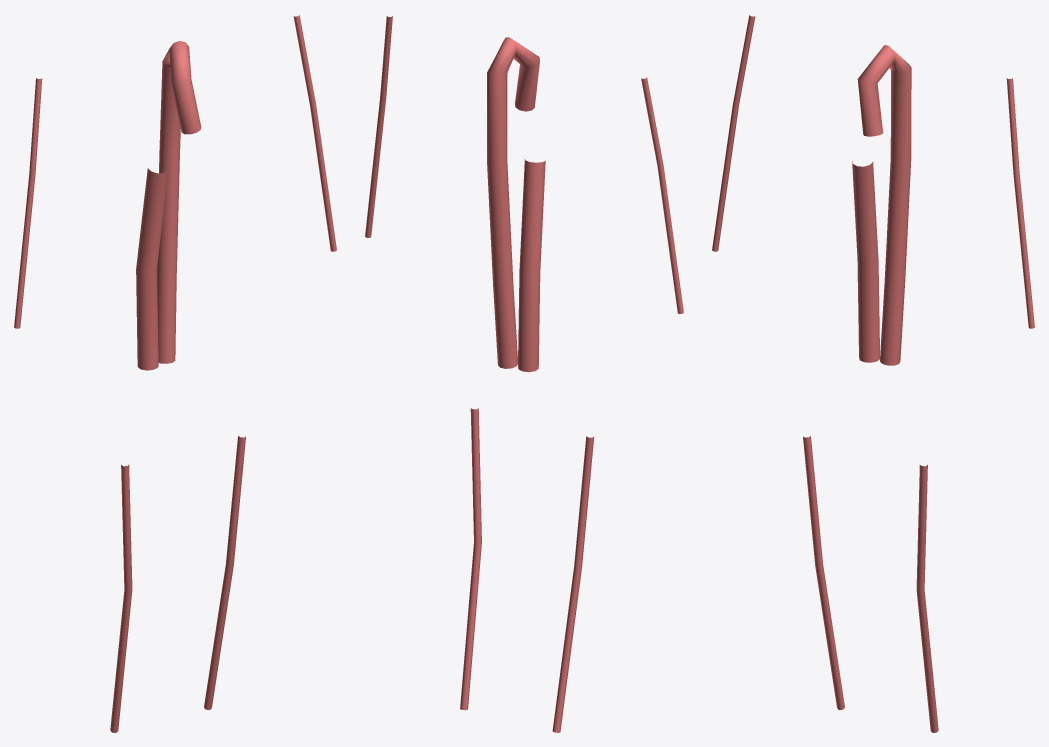
Rendered from vessels.glb.
3 renders of one model, left to right at view 1: azimuth 30°, elevation 25°; view 2: azimuth 150°, elevation 25°; view 3: azimuth 330°, elevation 25°, orthographic.
Visible parts, largest first — view 1: Aorta, Inferior vena cava, Femoral artery.L, Femoral artery.R, Brachial artery.R, Brachial artery.L; view 2: Aorta, Inferior vena cava, Femoral artery.L, Femoral artery.R, Brachial artery.R, Brachial artery.L; view 3: Aorta, Inferior vena cava, Femoral artery.R, Femoral artery.L, Brachial artery.L, Brachial artery.R.
Boxes of the visible parts, bbox=[...] form: Aorta: bbox=[157, 41, 201, 363]; Inferior vena cava: bbox=[136, 168, 168, 370]; Femoral artery.L: bbox=[204, 436, 245, 709]; Femoral artery.R: bbox=[110, 465, 132, 732]; Brachial artery.R: bbox=[14, 78, 42, 328]; Brachial artery.L: bbox=[293, 15, 336, 251]; Aorta: bbox=[487, 37, 539, 368]; Inferior vena cava: bbox=[518, 159, 545, 372]; Femoral artery.L: bbox=[460, 408, 481, 710]; Femoral artery.R: bbox=[552, 436, 594, 732]; Brachial artery.R: bbox=[641, 77, 683, 313]; Brachial artery.L: bbox=[365, 16, 392, 237]; Aorta: bbox=[857, 45, 911, 365]; Inferior vena cava: bbox=[852, 161, 879, 362]; Femoral artery.R: bbox=[803, 436, 844, 709]; Femoral artery.L: bbox=[916, 465, 938, 732]; Brachial artery.L: bbox=[1006, 78, 1034, 328]; Brachial artery.R: bbox=[712, 15, 755, 251].
Bounding box in the file's own units: 0.412 × 0.8374 × 0.0774.
